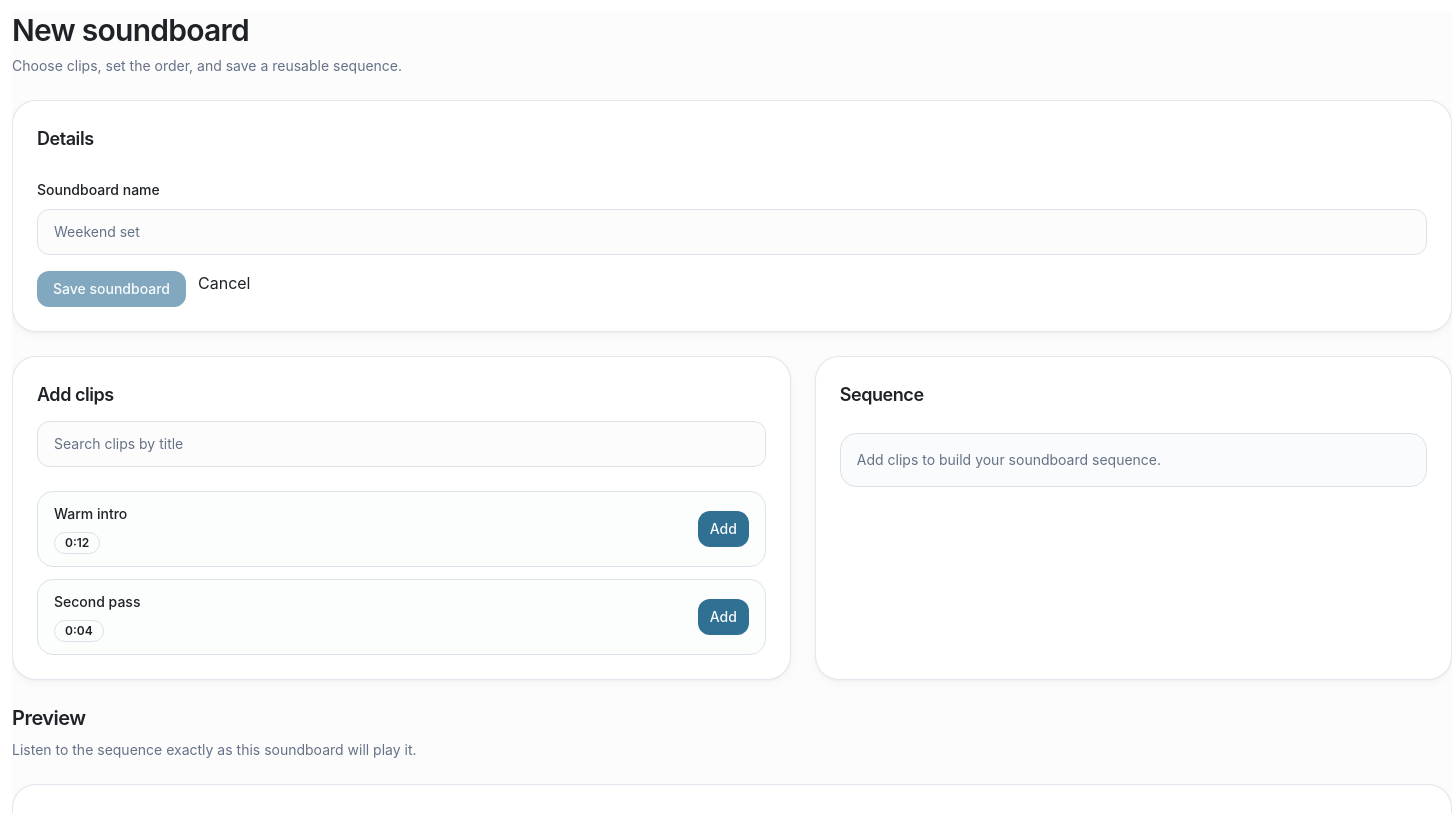
Test: NewSoundboardPage › shows save error when creation fails
The width and height of the screenshot is (1452, 813).
Expected: the text "Warm intro" is shown, [54, 504, 127, 524]
Type "My board" into the field labelled "Soundboard name" at (732, 232), box [37, 209, 1427, 255]
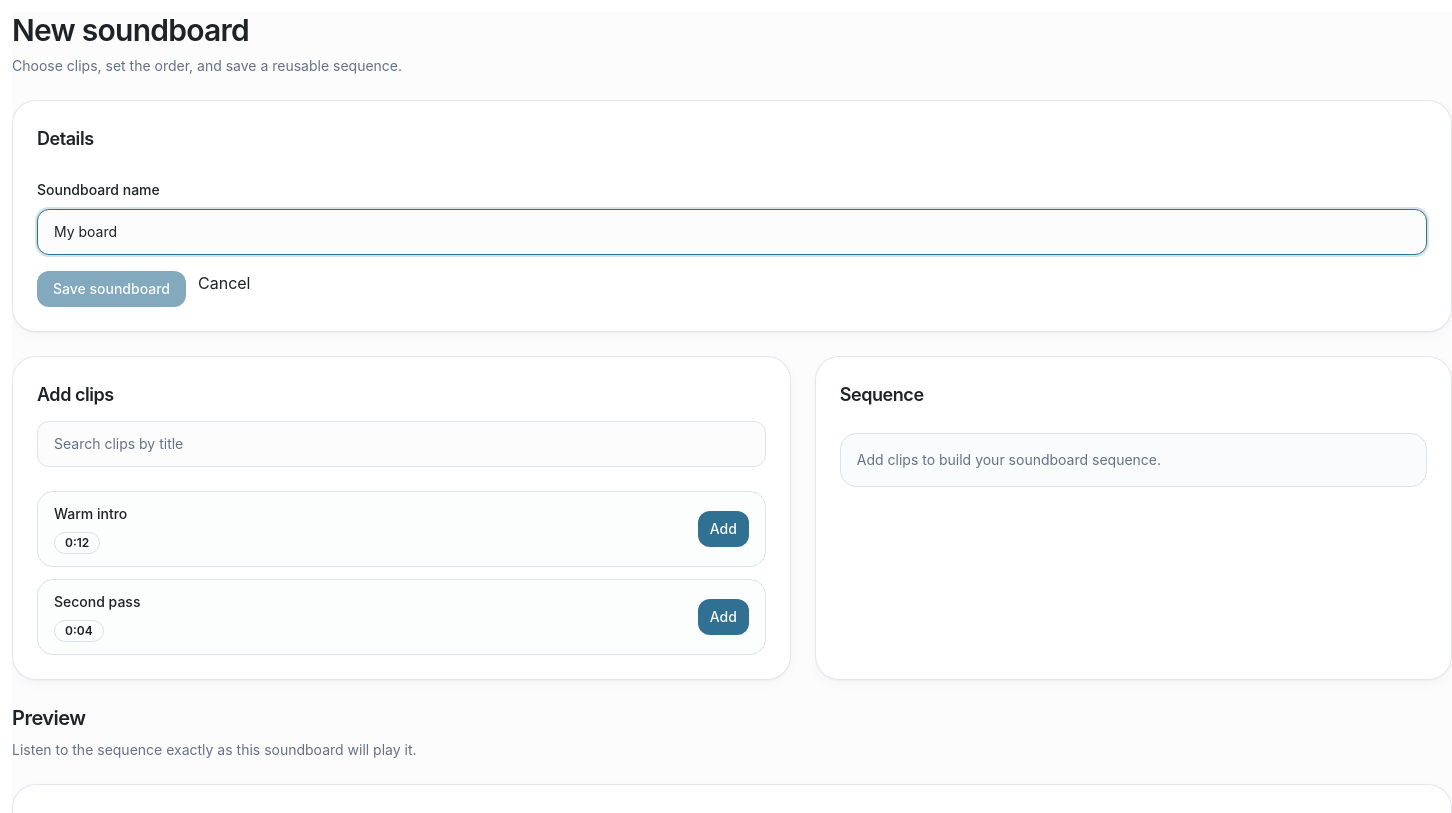
Click the button "Add" in the row of "Warm intro" at (723, 529), box [698, 511, 749, 547]
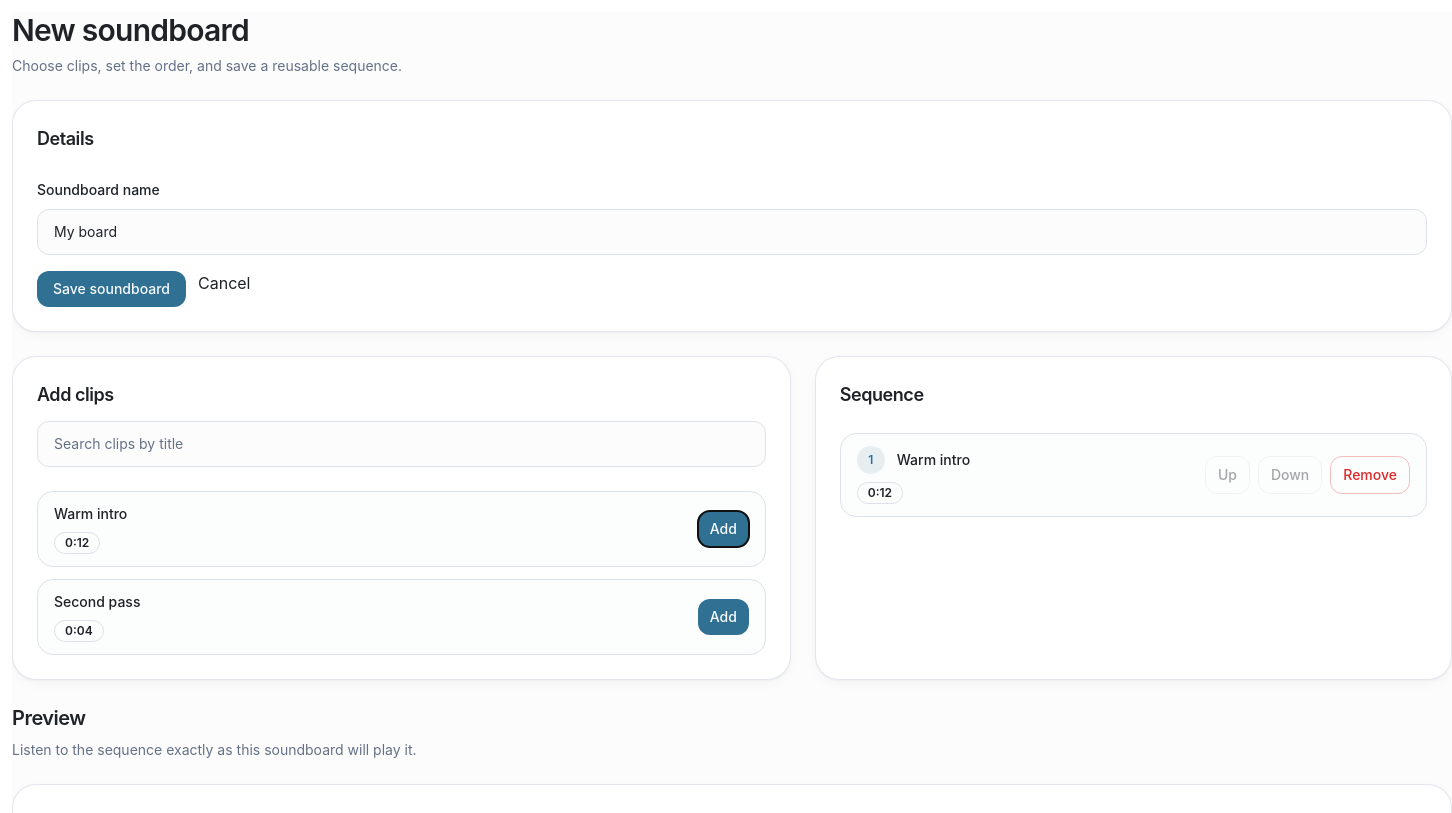
Click the button "Save soundboard" at (112, 289), box [37, 271, 186, 307]
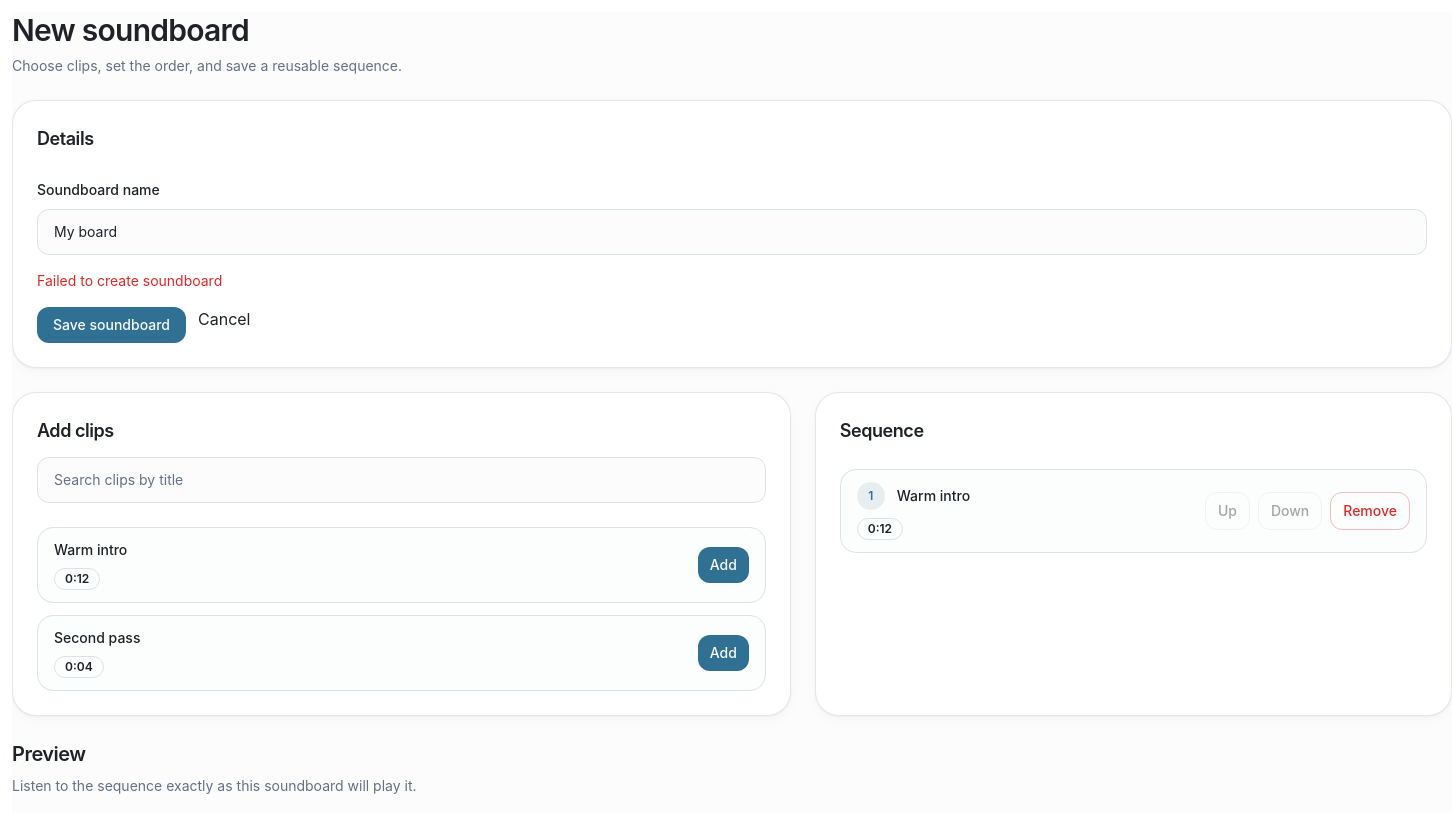
Result: the text "Failed to create soundboard" is shown at [37, 272, 222, 289]
